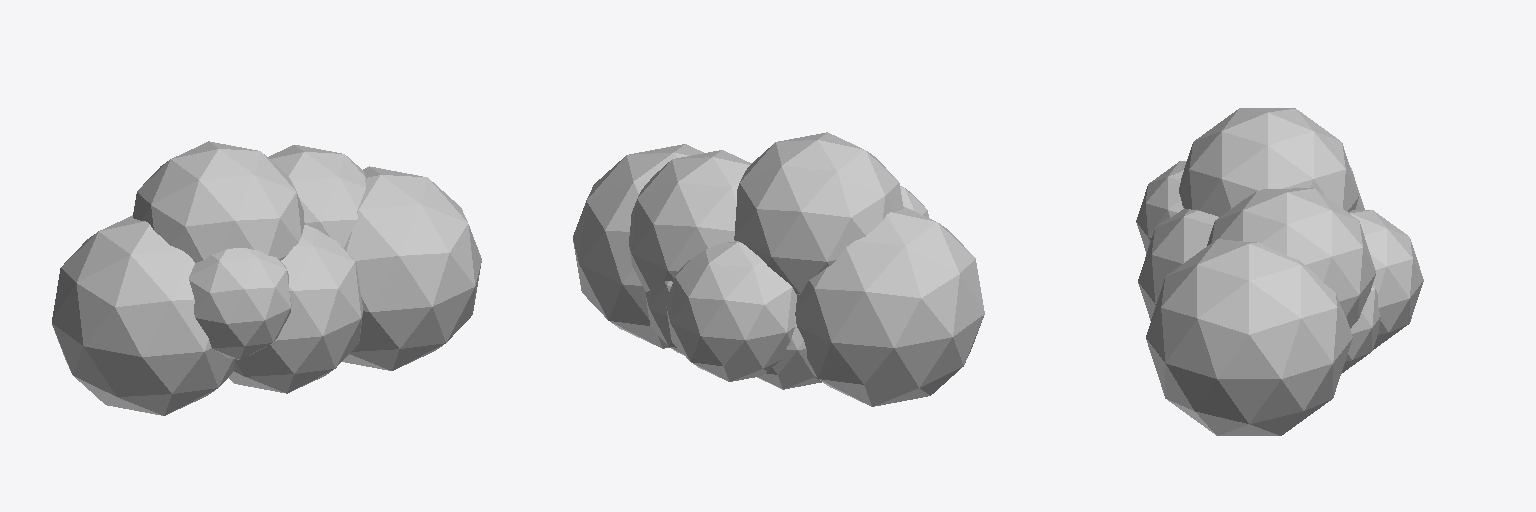
The model's file is cloud.obj.
3 renders of one model, left to right at view 1: azimuth 30°, elevation 25°; view 2: azimuth 150°, elevation 25°; view 3: azimuth 270°, elevation 25°, orthographic.
Visible parts, largest first — view 1: Icosphere.001_Icosphere.008; view 2: Icosphere.001_Icosphere.008; view 3: Icosphere.001_Icosphere.008.
Part boxes in pixels (left/top/right/bottom): Icosphere.001_Icosphere.008: left=52, top=141, right=481, bottom=415; Icosphere.001_Icosphere.008: left=573, top=132, right=984, bottom=406; Icosphere.001_Icosphere.008: left=1136, top=108, right=1423, bottom=435.
Size of the model in its own units: 4.34 by 2.6 by 2.78.